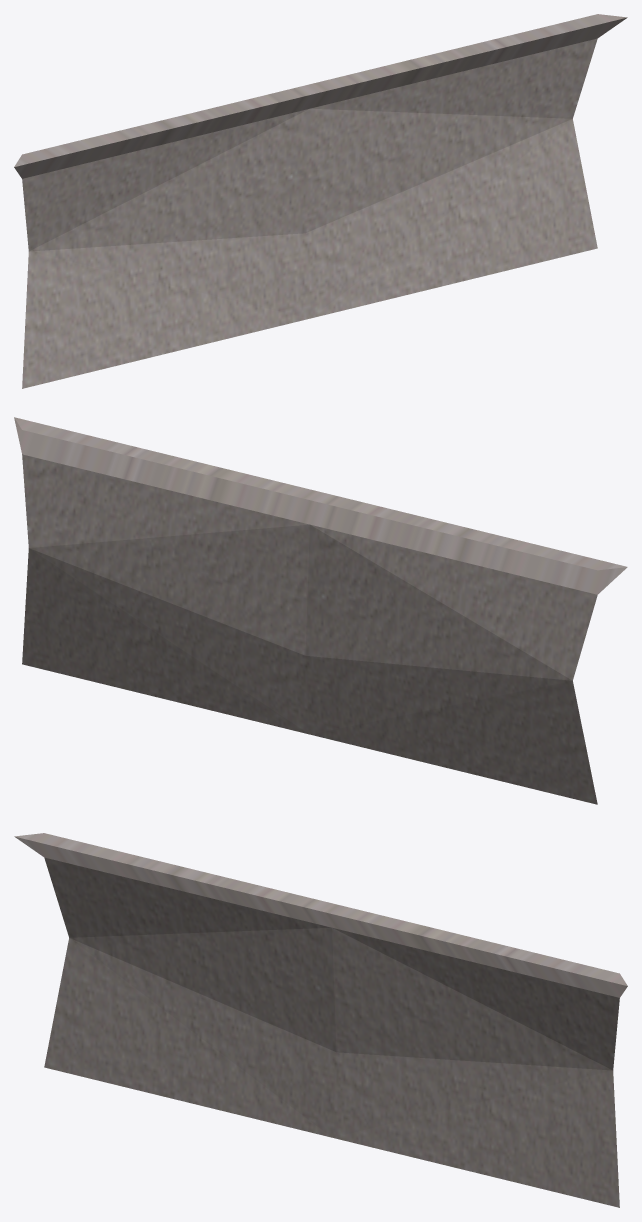
The model's file is W_A1_xxxx [Stein]_600.glb.
3 views of the same model, one above another, from view 1: azimuth 30°, elevation 25°; view 2: azimuth 150°, elevation 25°; view 3: azimuth 330°, elevation 25° (orthographic).
Parts seen in each view (by area): view 1: polySurfaceShape787, polySurfaceShape1065; view 2: polySurfaceShape787, polySurfaceShape1065; view 3: polySurfaceShape787, polySurfaceShape1065.
Part boxes in pixels (x1,y1,x2,y2): polySurfaceShape787: (22, 38, 597, 388); polySurfaceShape1065: (14, 14, 627, 178); polySurfaceShape787: (22, 454, 597, 804); polySurfaceShape1065: (14, 417, 627, 594); polySurfaceShape787: (44, 857, 619, 1207); polySurfaceShape1065: (14, 833, 627, 997).
Bounding box in the file's own units: 1.07 × 0.3891 × 0.0607.
Materials: 2 (2 with a texture image).
